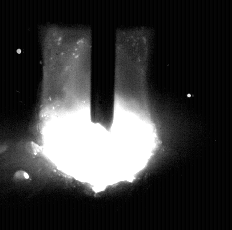arame: (91, 0, 116, 131)
poca: (30, 0, 162, 230)
